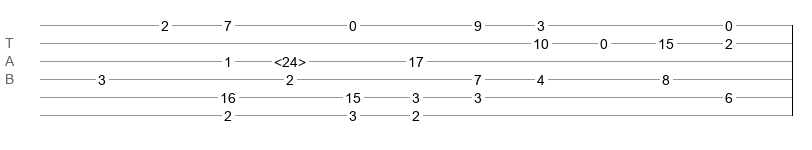0: (349, 18, 357, 28), (600, 36, 608, 46), (725, 18, 733, 28)
1: (224, 54, 232, 64)
10: (533, 36, 549, 46)
15: (345, 90, 361, 100), (658, 36, 674, 46)
16: (220, 90, 236, 100)
17: (408, 54, 424, 64)
2: (161, 18, 169, 28), (224, 108, 232, 118), (286, 72, 294, 82), (412, 108, 420, 118), (725, 36, 733, 46)
3: (98, 72, 106, 82), (349, 108, 357, 118), (412, 90, 420, 100), (474, 90, 482, 100), (537, 18, 545, 28)
4: (537, 72, 545, 82)
6: (725, 90, 733, 100)
7: (224, 18, 232, 28), (474, 72, 482, 82)
8: (662, 72, 670, 82)
9: (474, 18, 482, 28)
harmonic: (274, 54, 306, 64)
